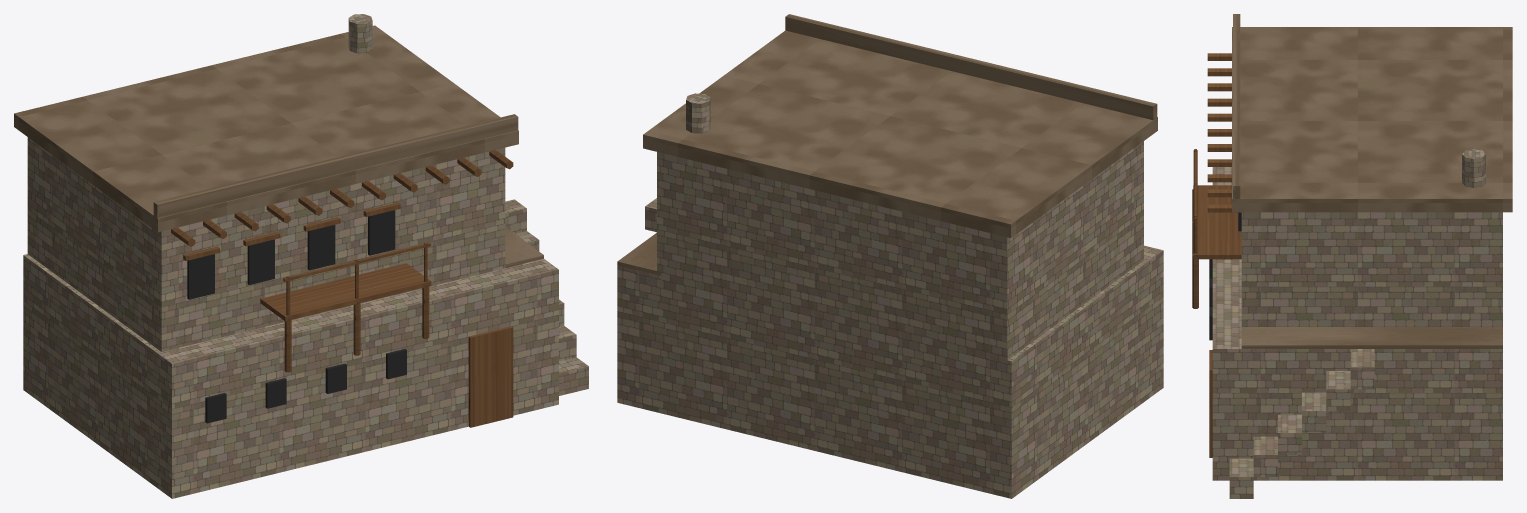
File: house_saklya_large.glb
3 views of the same model, side by side, from view 1: azimuth 30°, elevation 25°; view 2: azimuth 150°, elevation 25°; view 3: azimuth 270°, elevation 25° (orthographic). The views are drawn at different scales.
Visible parts, largest first — view 1: House_Saklya_Large; view 2: House_Saklya_Large; view 3: House_Saklya_Large.
Boxes of the visible parts, x1,y1,x2,y2 form: House_Saklya_Large: [14, 14, 588, 498]; House_Saklya_Large: [617, 14, 1163, 498]; House_Saklya_Large: [1192, 14, 1512, 498].
Bounding box in the file's own units: 10 × 6.74 × 6.62.
Materials: 4 (3 with a texture image).
